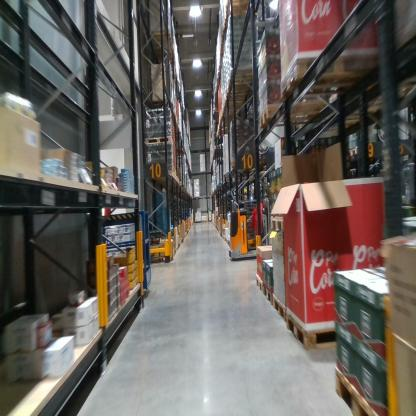forklift: (225, 122, 261, 265)
pallet: (282, 47, 389, 97), (259, 99, 347, 131), (332, 366, 382, 416), (285, 312, 340, 357), (143, 134, 175, 151), (273, 292, 289, 324), (142, 28, 174, 39), (223, 1, 250, 12), (263, 282, 273, 306), (253, 273, 263, 295)
